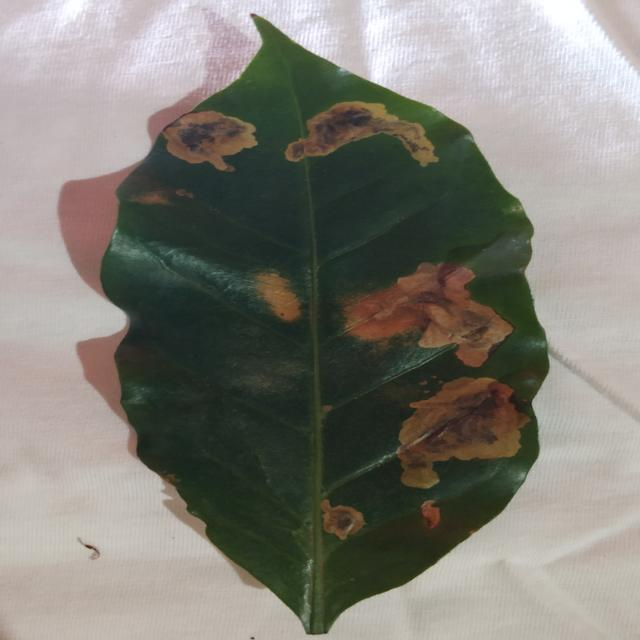Plaga-Minador: (96, 15, 551, 610)
